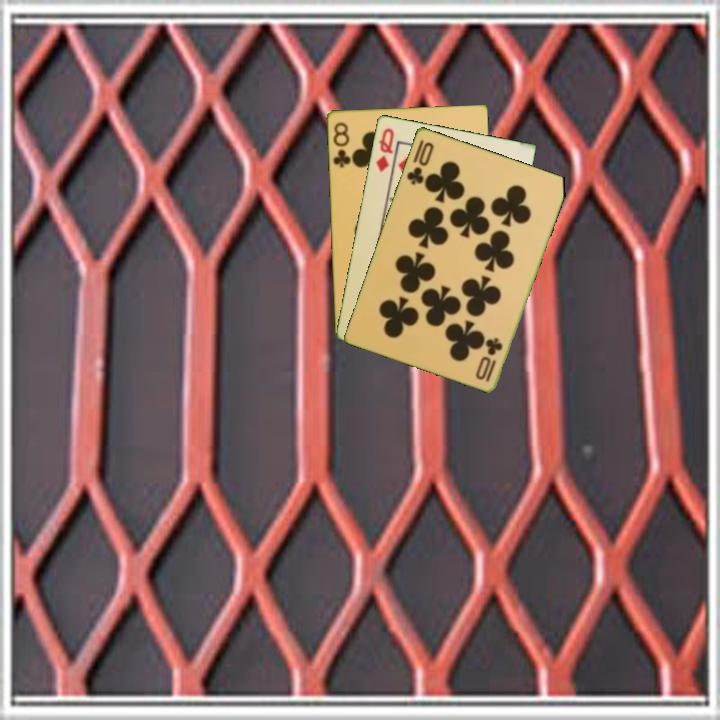10c: (403, 138, 437, 187), (482, 334, 505, 385)
8c: (329, 118, 353, 170)
Qd: (372, 124, 397, 175)
